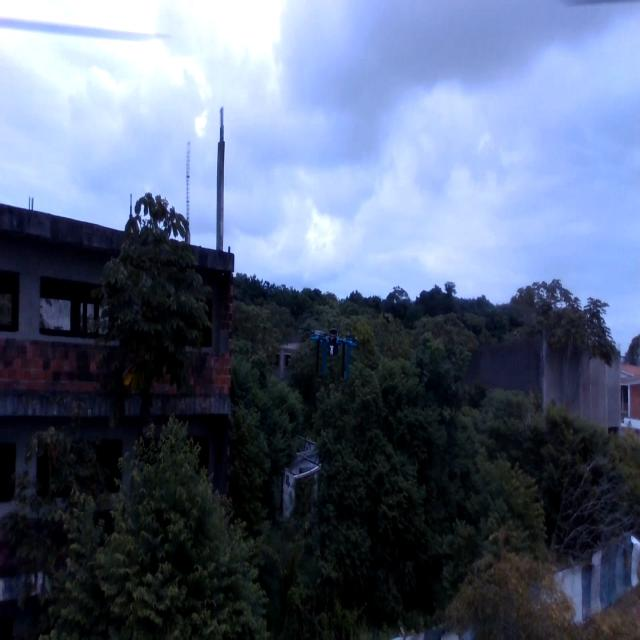-uav-: (296, 308, 372, 400)
